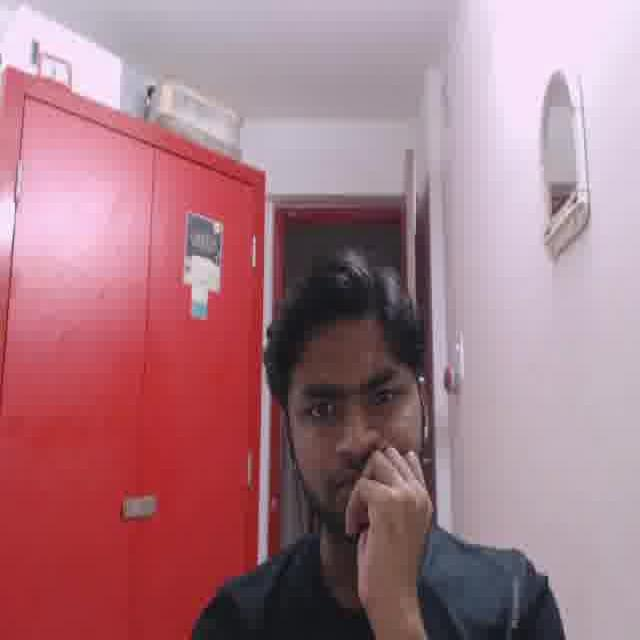Frustration: (283, 322, 420, 534)
